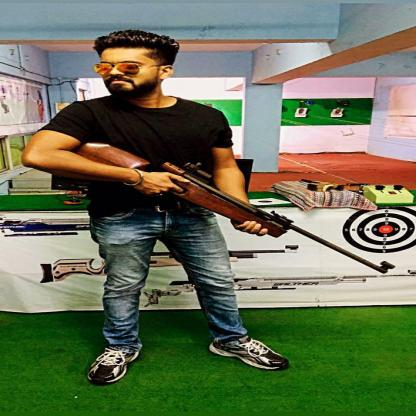rifle: (74, 140, 397, 275)
